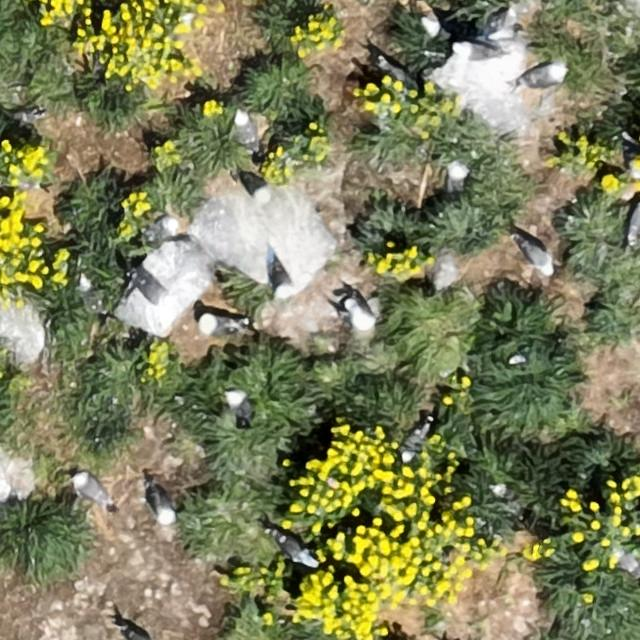umineko: (120, 264, 176, 313), (398, 414, 442, 469), (133, 213, 187, 247), (443, 157, 477, 202), (234, 166, 273, 203), (488, 482, 533, 512), (276, 534, 314, 564), (523, 240, 555, 273), (74, 474, 108, 503), (522, 64, 565, 86), (220, 393, 259, 417), (152, 489, 176, 523), (234, 112, 256, 148), (344, 299, 371, 328), (201, 314, 238, 334), (272, 265, 291, 294), (626, 203, 640, 240), (421, 15, 443, 38), (124, 626, 154, 639)
